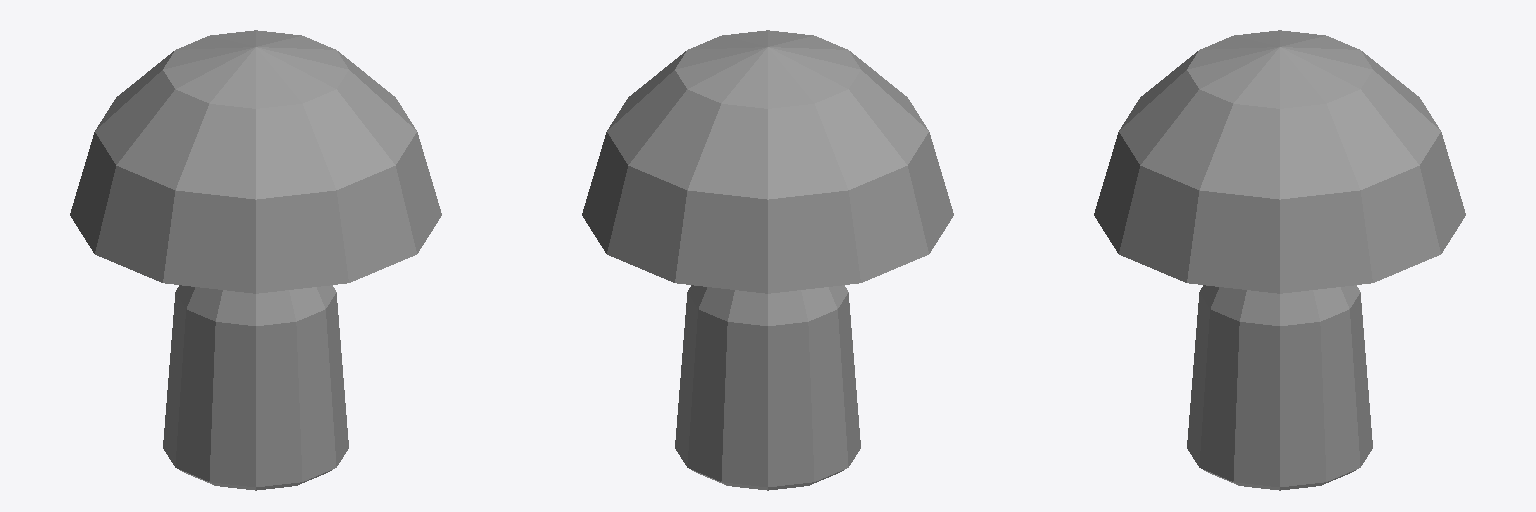
The model's file is mushroomg9.obj.
3 renders of one model, left to right at view 1: azimuth 30°, elevation 25°; view 2: azimuth 150°, elevation 25°; view 3: azimuth 270°, elevation 25°, orthographic.
Parts seen in each view (by area): view 1: Sphere.007; view 2: Sphere.007; view 3: Sphere.007.
Part boxes in pixels (left/top/right/bottom): Sphere.007: left=70, top=30, right=441, bottom=490; Sphere.007: left=582, top=30, right=953, bottom=490; Sphere.007: left=1094, top=30, right=1465, bottom=490.
Bounding box in the file's own units: 0.9 × 1.11 × 0.9.